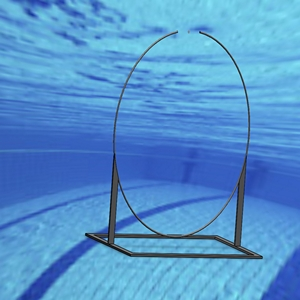circle: (86, 29, 263, 259)
